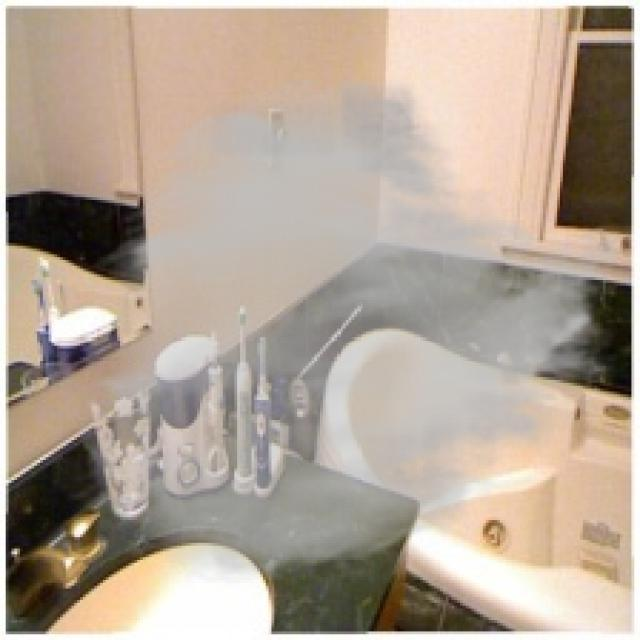Smoke: (74, 71, 632, 588)
